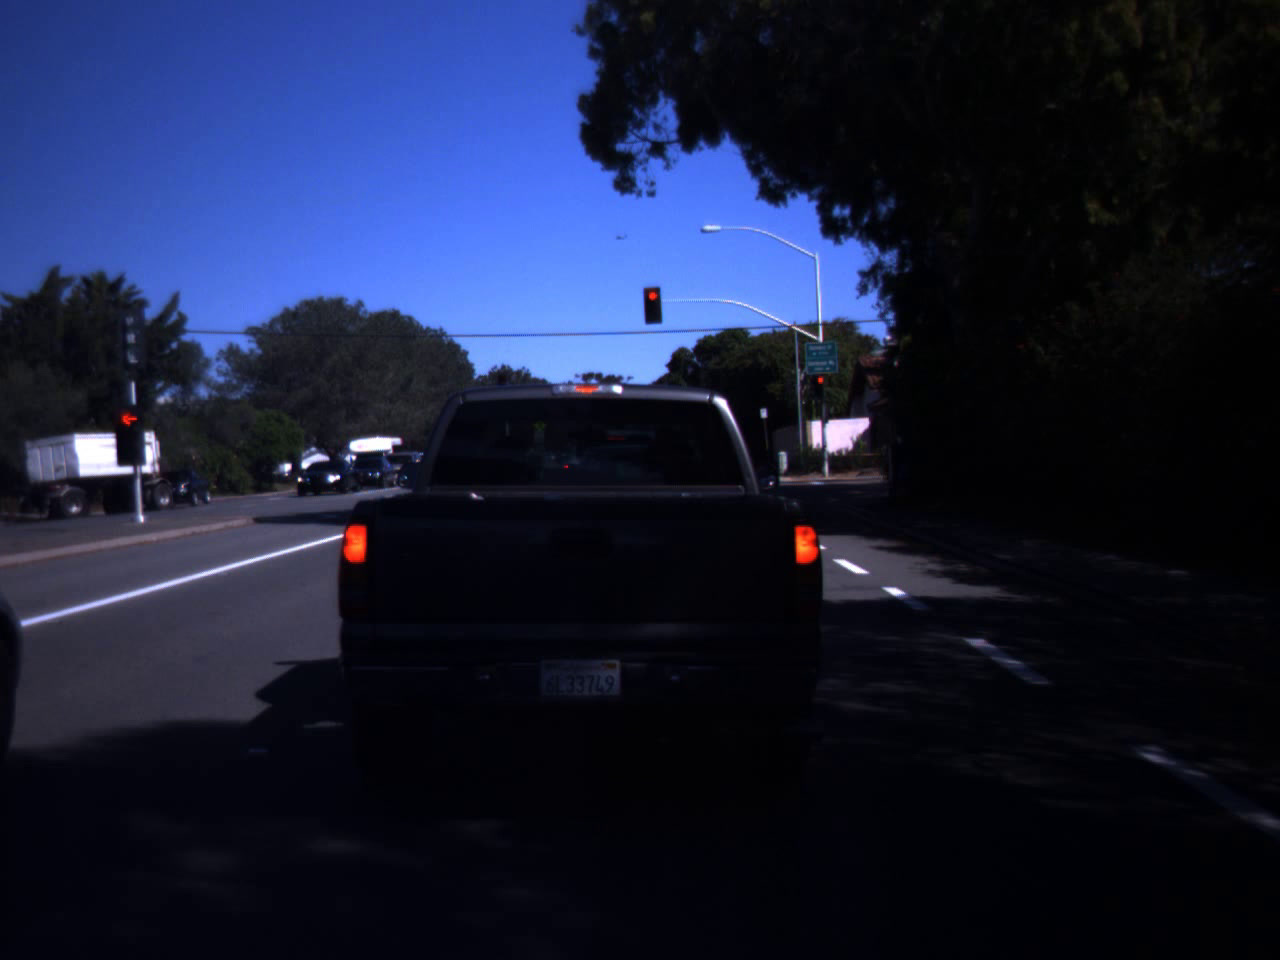stop: (112, 400, 157, 467), (644, 290, 662, 312), (814, 376, 826, 394)
